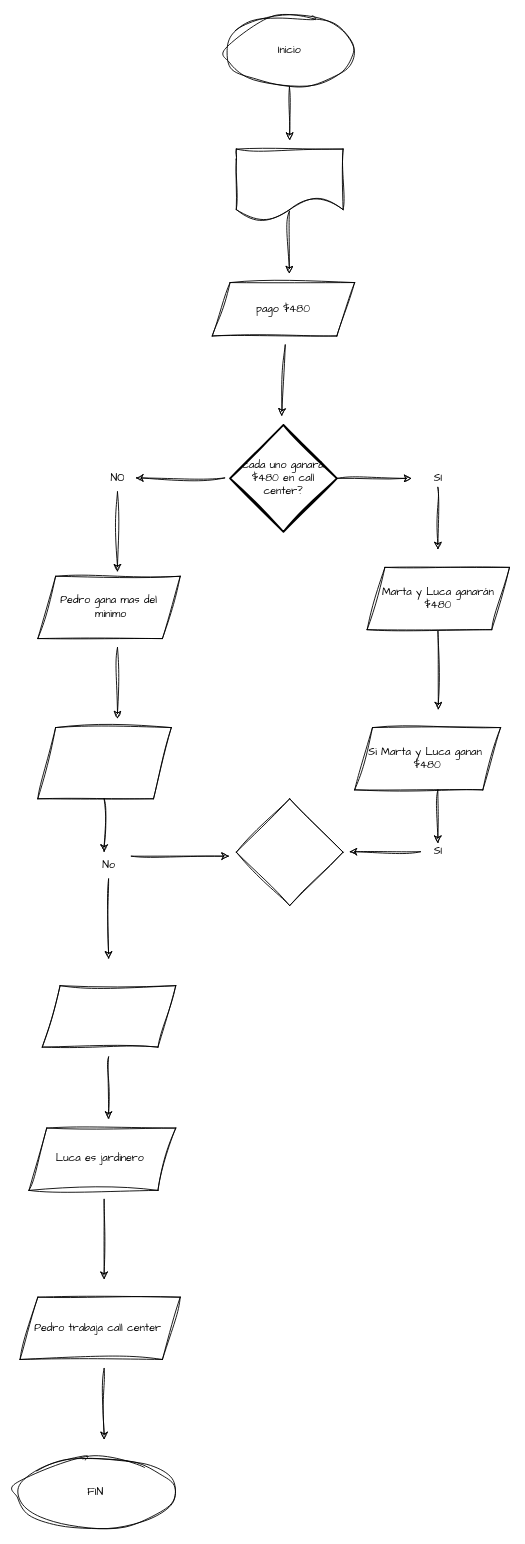
Image size: 525x1544. Some labels were removed from this diagram. The shapes that lost their labels are listed below. From the top down, each one's centre as x and y in pixels, then its label:
(x=289, y=184): Salario Semanal
(x=104, y=763): Pedro gana $600
(x=289, y=852): Tienen el mismo trabajo?
(x=108, y=1016): Marta trabaja en Mall
